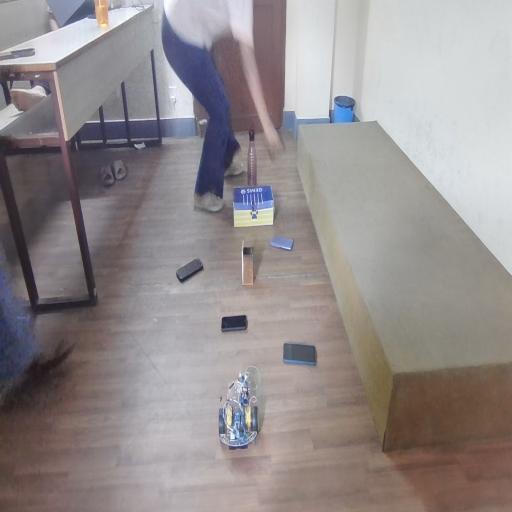Bottle: (244, 120, 265, 186)
car: (205, 363, 278, 442)
